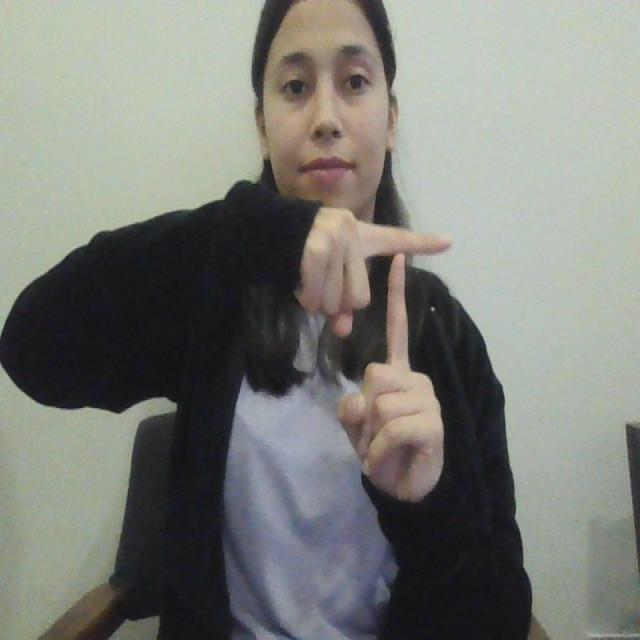Tesekkurler: (345, 207, 455, 399)
